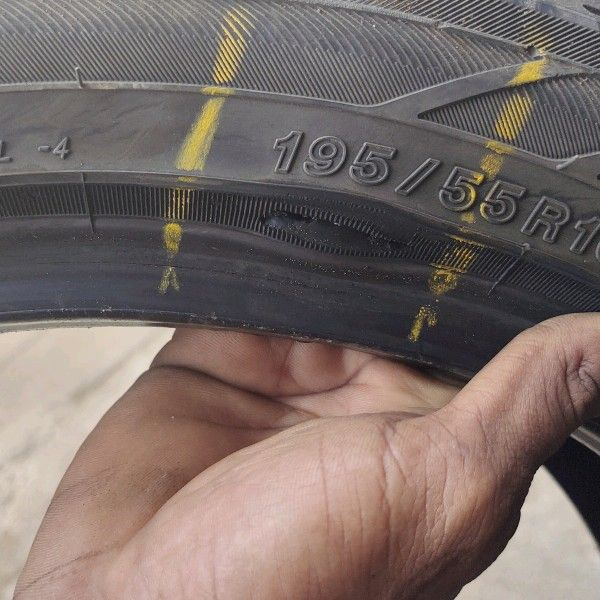cut: (254, 205, 410, 250)
